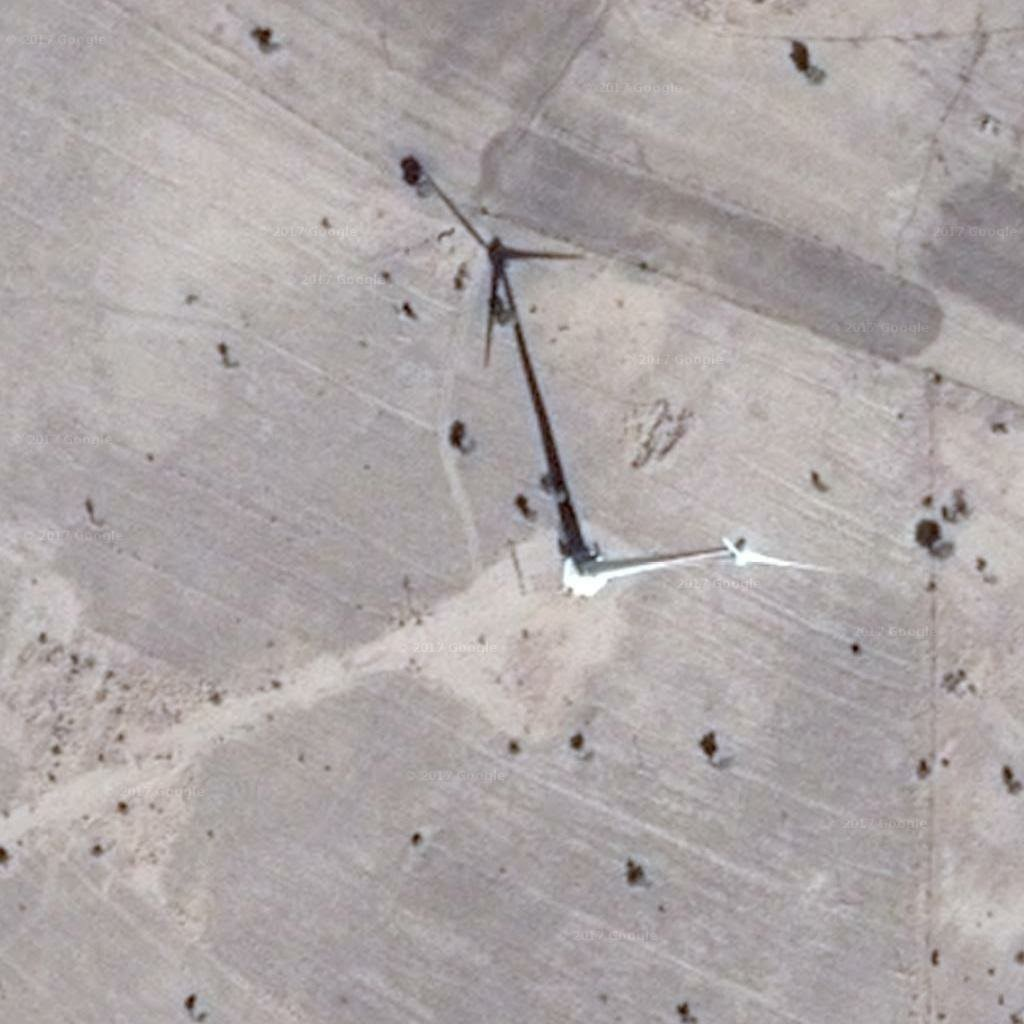Windmill: (415, 166, 622, 572)
